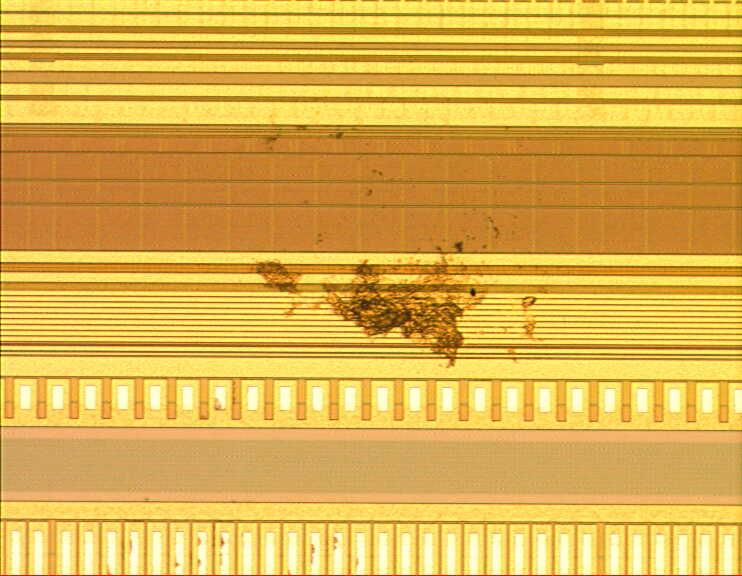PO CONTAMINATION: (105, 123, 548, 576)
